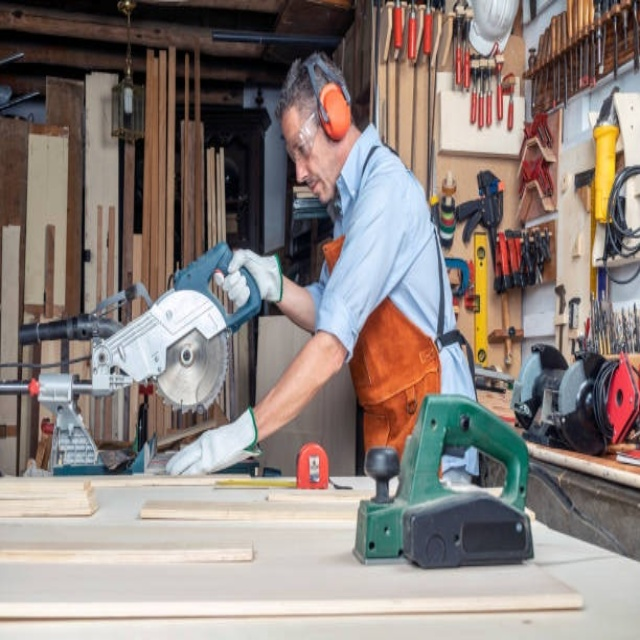Gafas: (282, 105, 320, 165)
Guantes: (167, 405, 261, 478), (223, 247, 283, 306)
Sin_mascara: (302, 176, 327, 202)
